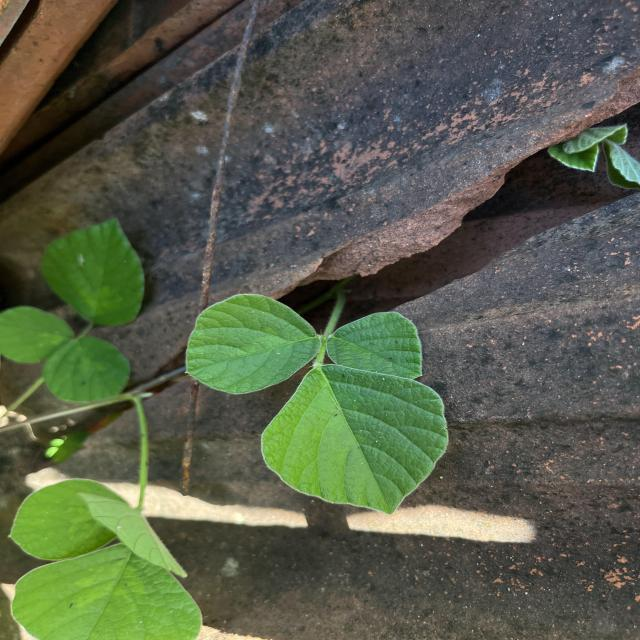Pseudarthria viscida: (182, 291, 452, 517)
